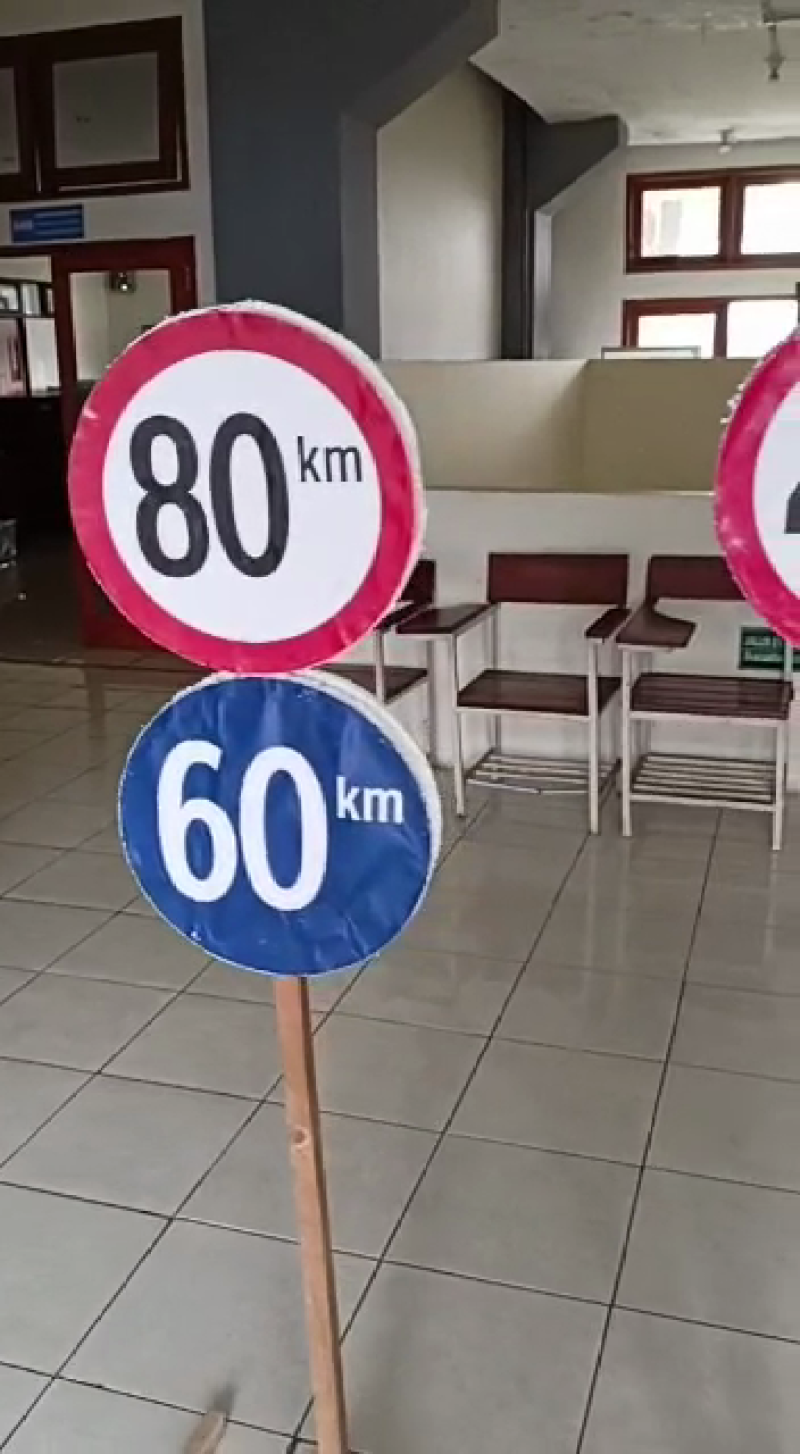batas maksimal 80kmperjam minimal 60kmperjam: (56, 293, 449, 980)
